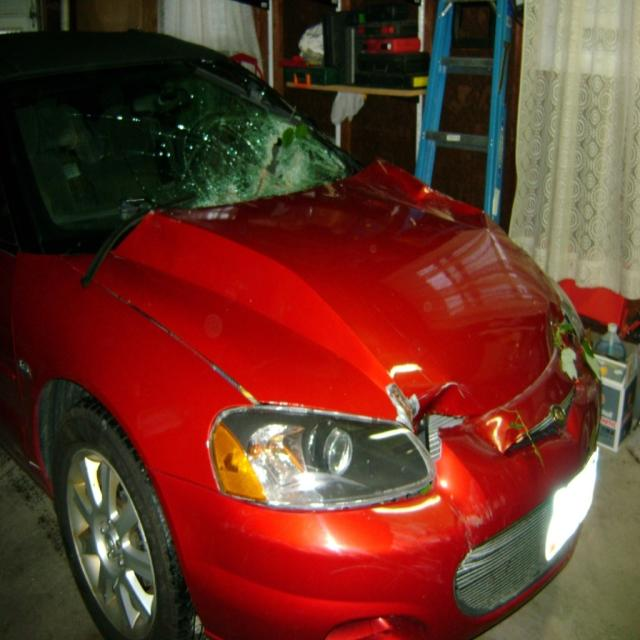crush: (146, 101, 603, 577)
